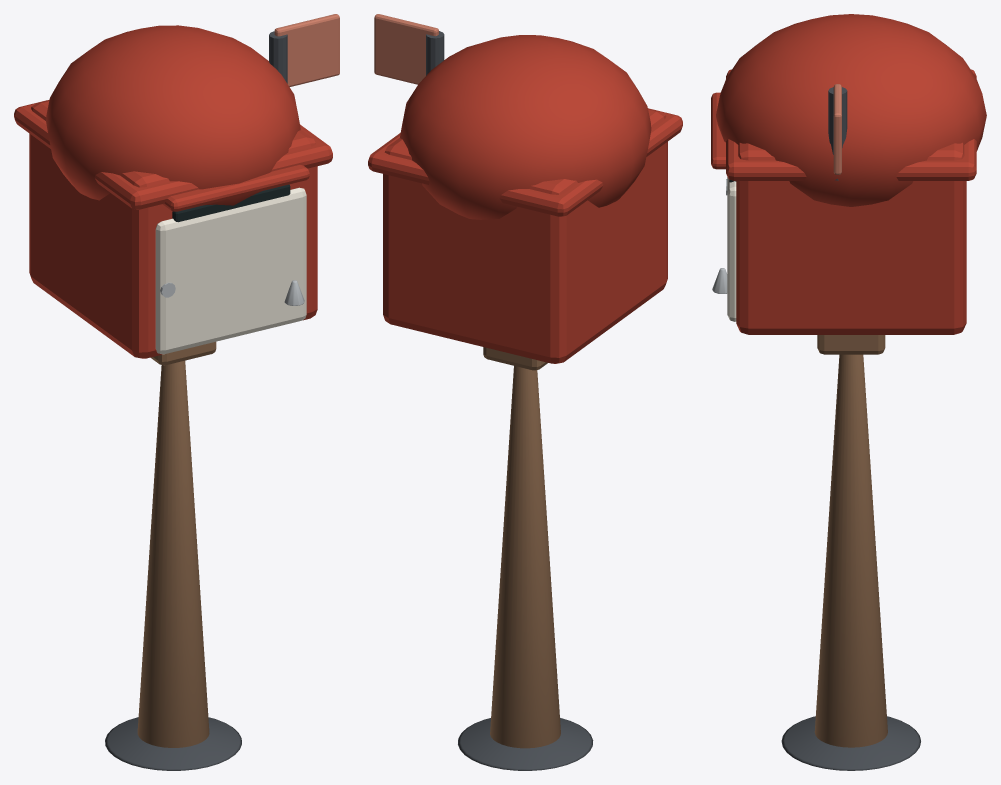
The model's file is post_box.glb.
The picture shows the model from 3 angles, left to right: view 1: azimuth 30°, elevation 25°; view 2: azimuth 150°, elevation 25°; view 3: azimuth 270°, elevation 25°; orthographic projection. The views are drawn at different scales.
Visible parts, largest first — view 1: Domed lid, Letter box, Tint, Box post, Post base plate, Lid rim, Flag, Slot hood, Letter slot, Flag post, Post brace; view 2: Letter box, Domed lid, Box post, Lid rim, Post base plate, Flag, Post brace, Flag post; view 3: Domed lid, Letter box, Box post, Post base plate, Lid rim, Tint, Post brace, Slot hood, Flag, Flag post.
Part boxes in pixels (bbox=[...]): Domed lid: bbox=[46, 25, 300, 205]; Letter box: bbox=[29, 100, 317, 358]; Tint: bbox=[155, 187, 306, 354]; Box post: bbox=[137, 360, 209, 747]; Post base plate: bbox=[105, 717, 241, 770]; Lid rim: bbox=[14, 99, 332, 209]; Flag: bbox=[274, 14, 339, 86]; Slot hood: bbox=[162, 165, 309, 211]; Letter slot: bbox=[172, 184, 290, 222]; Flag post: bbox=[269, 31, 287, 83]; Post brace: bbox=[150, 341, 216, 365]; Letter box: bbox=[383, 108, 667, 363]; Domed lid: bbox=[400, 35, 651, 219]; Box post: bbox=[490, 366, 560, 748]; Lid rim: bbox=[368, 108, 682, 216]; Post base plate: bbox=[458, 718, 593, 770]; Flag: bbox=[374, 14, 438, 84]; Post brace: bbox=[483, 347, 547, 370]; Flag post: bbox=[426, 31, 444, 75]; Domed lid: bbox=[716, 14, 986, 206]; Letter box: bbox=[736, 142, 966, 334]; Box post: bbox=[814, 354, 887, 747]; Post base plate: bbox=[781, 716, 920, 770]; Lid rim: bbox=[726, 69, 976, 180]; Tint: bbox=[727, 177, 736, 321]; Post brace: bbox=[817, 335, 885, 354]; Slot hood: bbox=[711, 92, 725, 169]; Flag: bbox=[833, 84, 841, 174]; Flag post: bbox=[828, 87, 847, 180].
Size of the model in its own units: 0.465 by 1.16 by 0.407.
